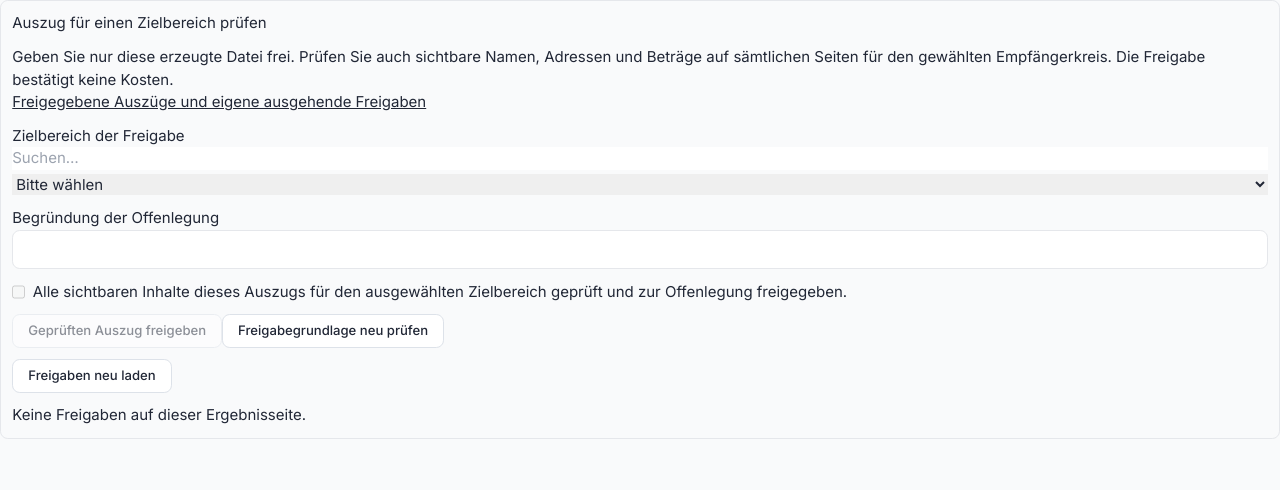
it: requires selecting the destination and opening the exact artifact before acknowledgment
Expected: the button "Geprüften Auszug freigeben" is disabled, top-left (12, 314), bottom-right (222, 348)
Expected: the checkbox labelled "Alle sichtbaren Inhalte dieses Auszugs" is disabled, top-left (12, 280), bottom-right (25, 303)
Select "Selected destination · WEG" in the dropdown named "Zielbereich der Freigabe" at (640, 184), box top-left (12, 174), bottom-right (1268, 194)
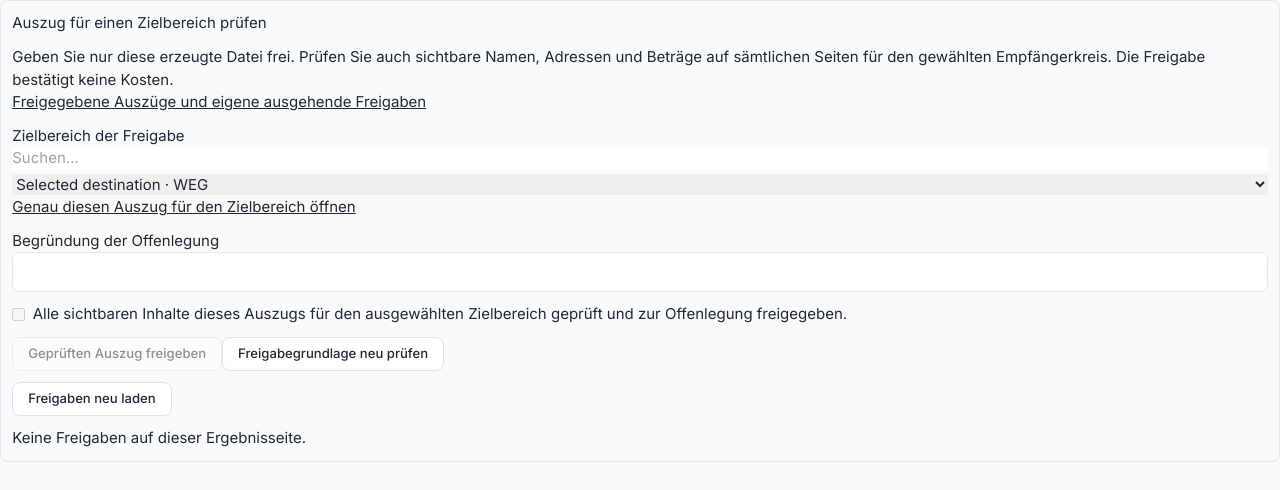
Click the link "Genau diesen Auszug für den Zielbereich öffnen" at (184, 206), box top-left (12, 197), bottom-right (356, 216)
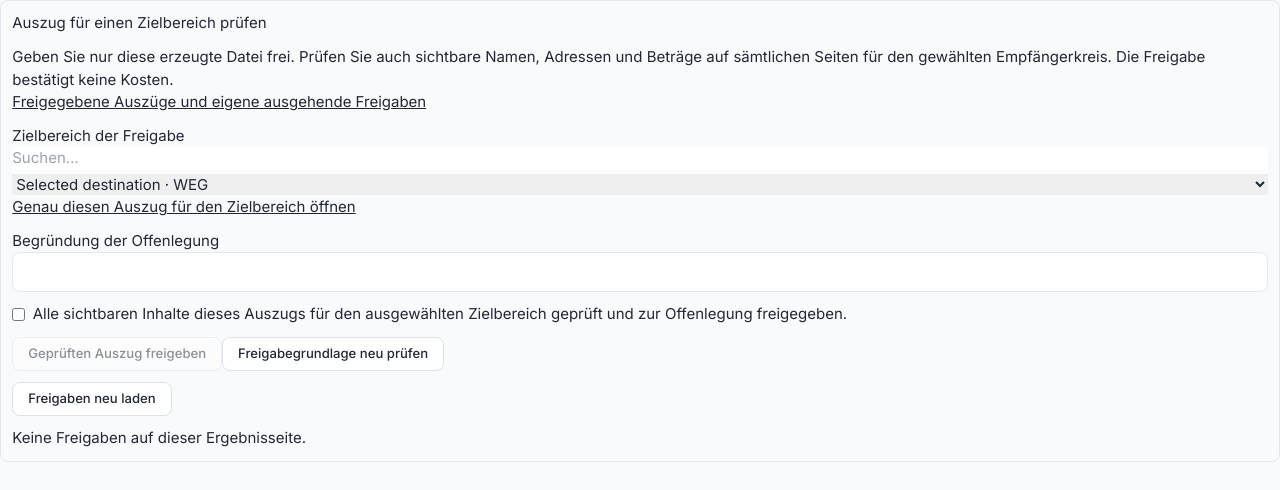
Type "Visible content reviewed for chosen audience" into the field labelled "Begründung der Offenlegung" at (640, 272), box top-left (12, 252), bottom-right (1268, 292)
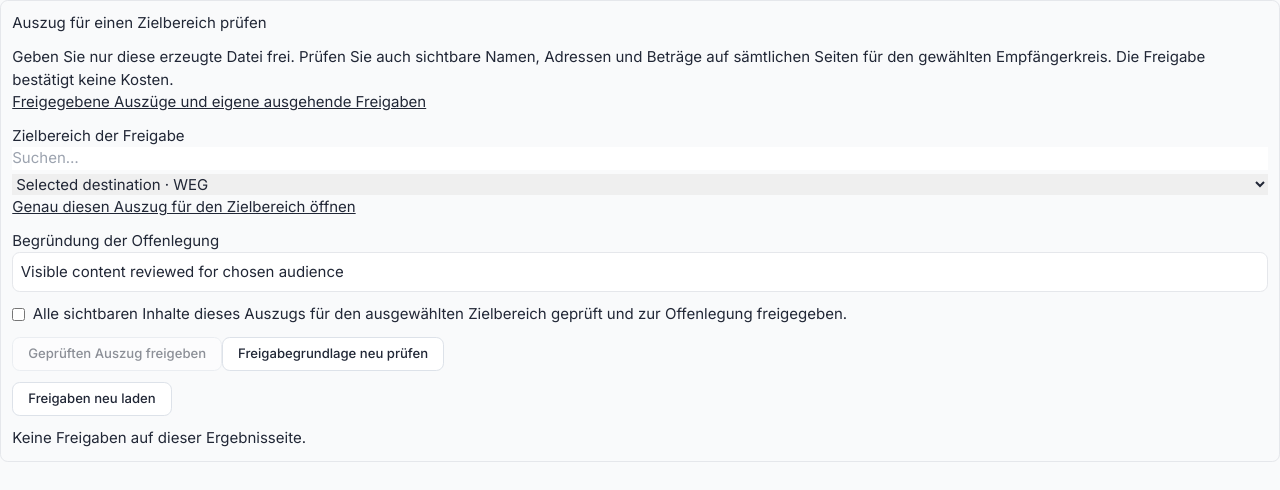
Click the checkbox labelled "Alle sichtbaren Inhalte dieses Auszugs" at (19, 314), box top-left (12, 303), bottom-right (25, 326)
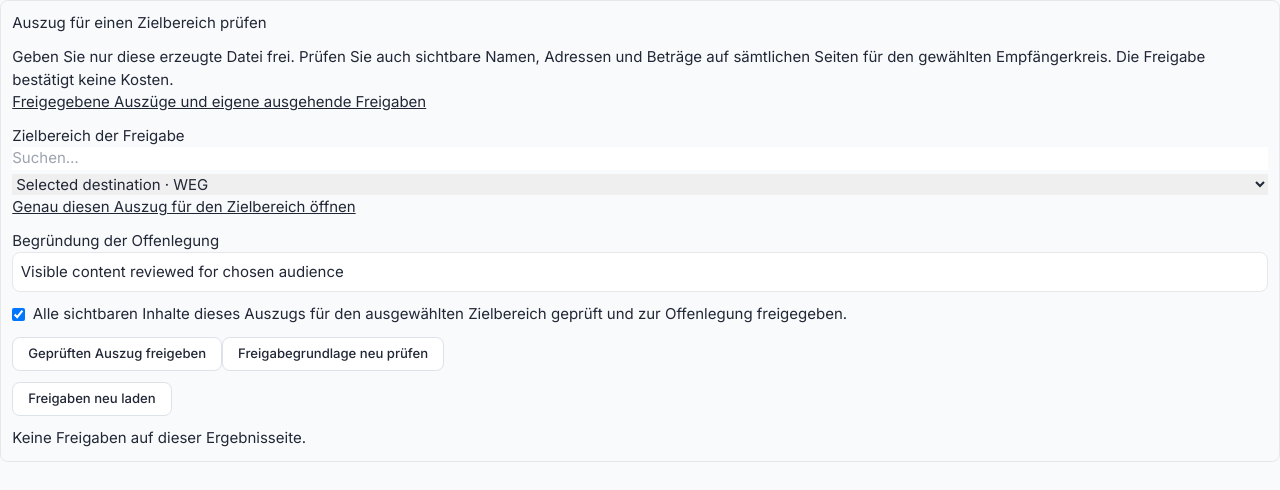
Click the button "Geprüften Auszug freigeben" at (117, 354), box top-left (12, 337), bottom-right (222, 371)
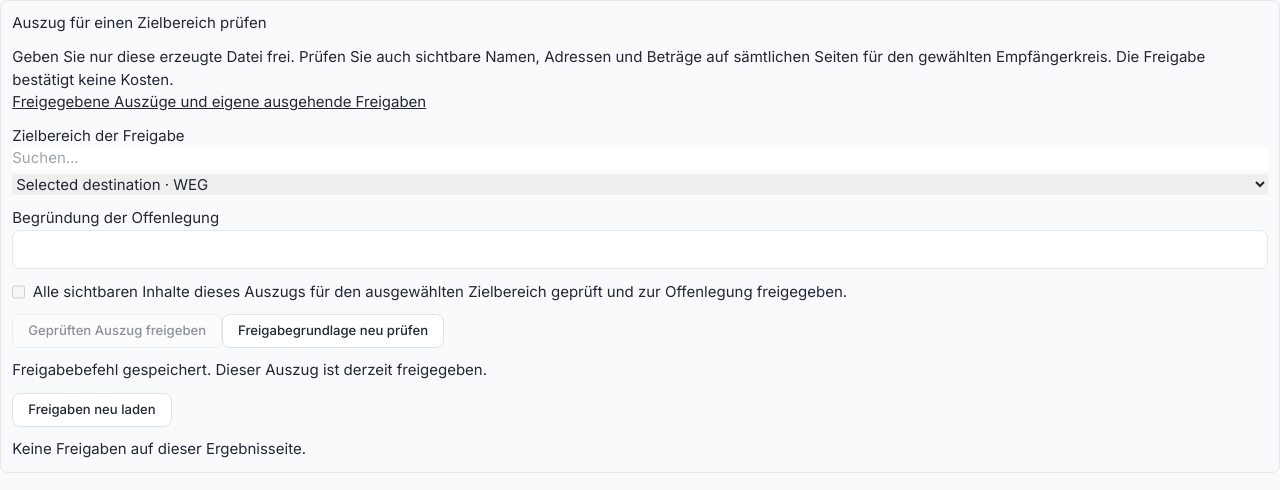
Expected: the text "Freigabebefehl gespeichert. Dieser Auszug ist derzeit freigegeben." is shown, top-left (12, 360), bottom-right (487, 379)
